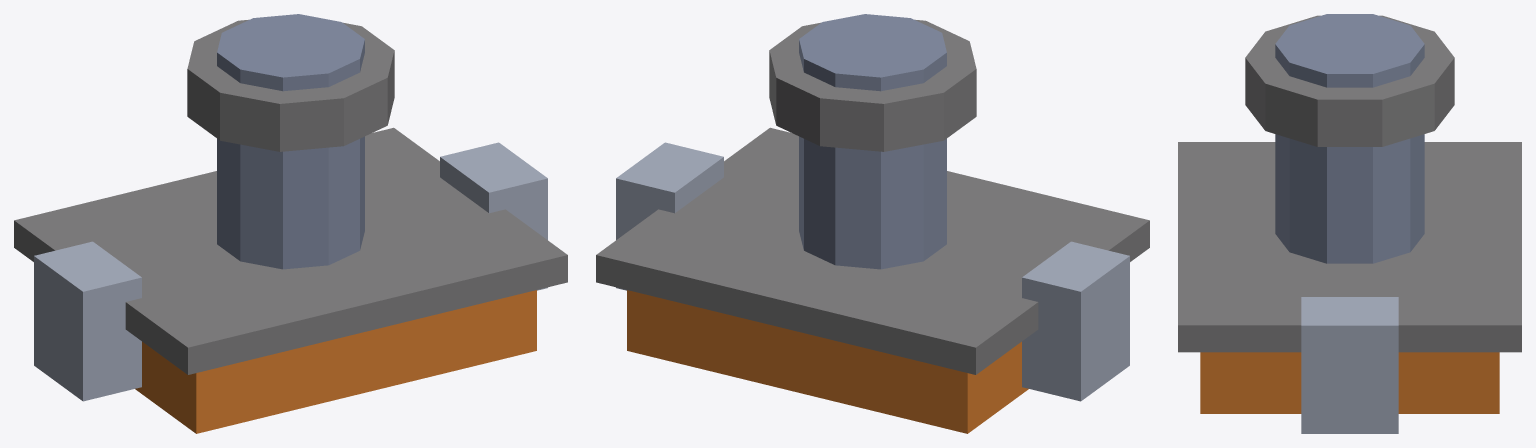
File: press_ram.glb
The picture shows the model from 3 angles, left to right: view 1: azimuth 30°, elevation 25°; view 2: azimuth 150°, elevation 25°; view 3: azimuth 270°, elevation 25°; orthographic projection.
Parts seen in each view (by area): view 1: press_ram; view 2: press_ram; view 3: press_ram.
Boxes of the visible parts, <box> form: press_ram: <box>14,14,567,433</box>; press_ram: <box>596,14,1149,433</box>; press_ram: <box>1178,14,1521,433</box>.
Bounding box in the file's own units: 0.71 × 0.425 × 0.46.
